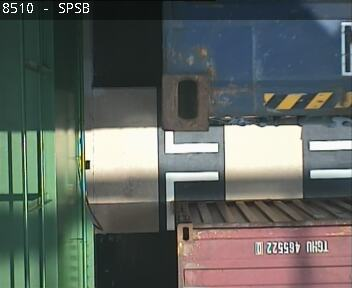groundmarker_1: (165, 132, 219, 231)
